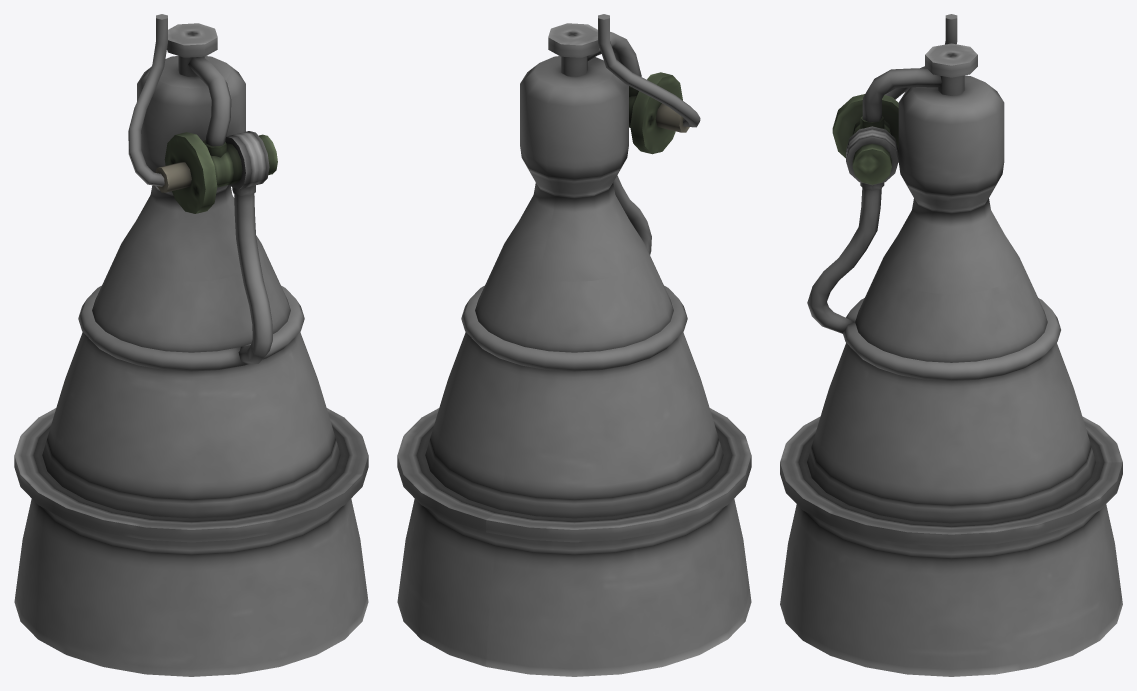
The model's file is engine.fbx.
3 views of the same model, side by side, from view 1: azimuth 30°, elevation 25°; view 2: azimuth 150°, elevation 25°; view 3: azimuth 270°, elevation 25° (orthographic). The views are drawn at different scales.
Visible parts, largest first — view 1: mesh; view 2: mesh; view 3: mesh.
Part boxes in pixels (x1,y1,x2,y2): mesh: (14,14,368,676); mesh: (397,14,751,676); mesh: (780,14,1122,676).
Bounding box in the file's own units: 0.325 × 0.6015 × 0.325.
Materials: 1 (1 with a texture image).
